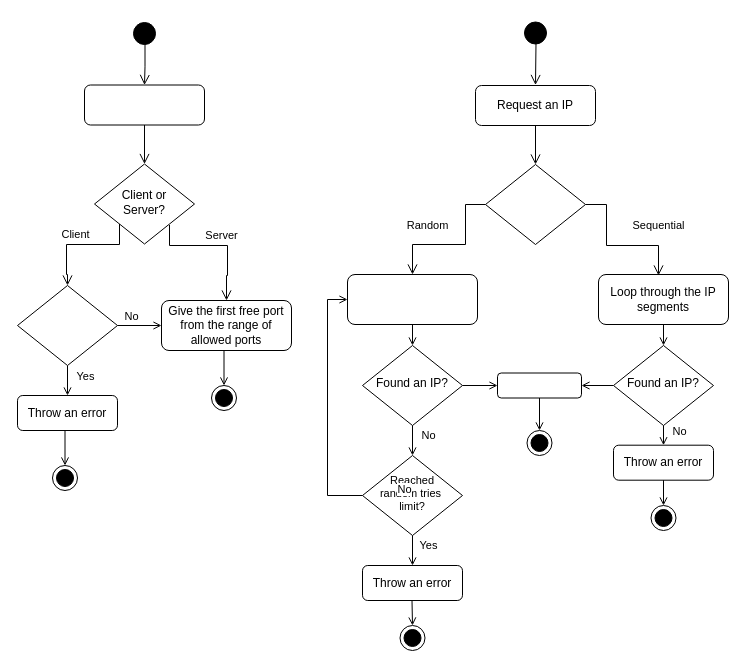
This 746x668 diagram has some shape labels left out. Each missing label, with the centre of its shape:
Assign it: point 539,385
Is there a port assigned for this client?: point 67,325
Random or Sequential?: point 535,204
Request a port: point 144,104
Try random IPs in a segment: point 412,299
